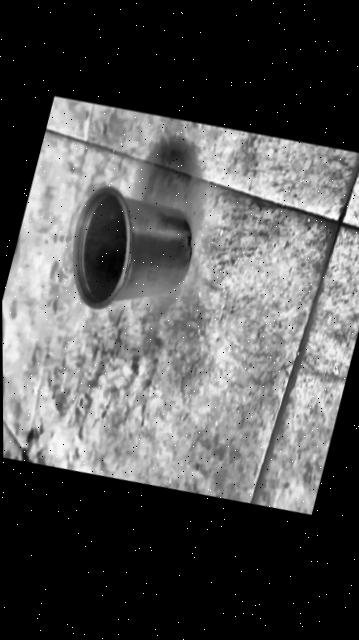pot: (55, 173, 203, 332)
